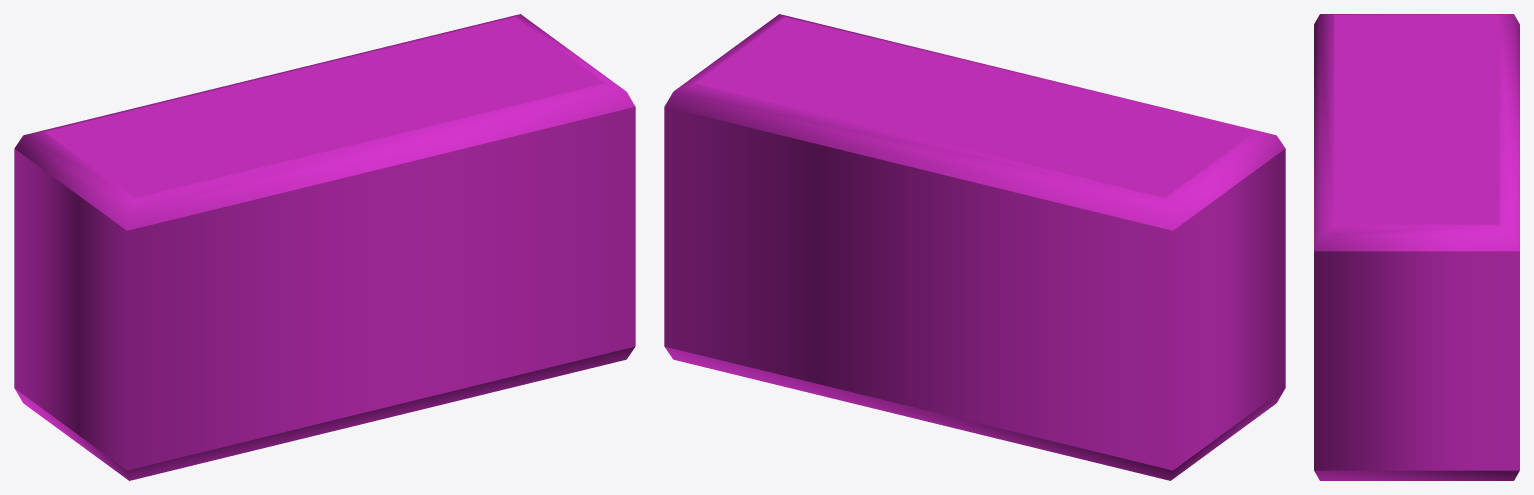
The model's file is MinusSign_CoolFont.fbx.
3 views of the same model, side by side, from view 1: azimuth 30°, elevation 25°; view 2: azimuth 150°, elevation 25°; view 3: azimuth 270°, elevation 25° (orthographic). The views are drawn at different scales.
Parts seen in each view (by area): view 1: MinusSign; view 2: MinusSign; view 3: MinusSign.
Part boxes in pixels (x1,y1,x2,y2): MinusSign: (14, 14, 635, 480); MinusSign: (664, 14, 1285, 480); MinusSign: (1314, 14, 1519, 480).
Size of the model in its own units: 0.2664 by 0.14 by 0.1021.
